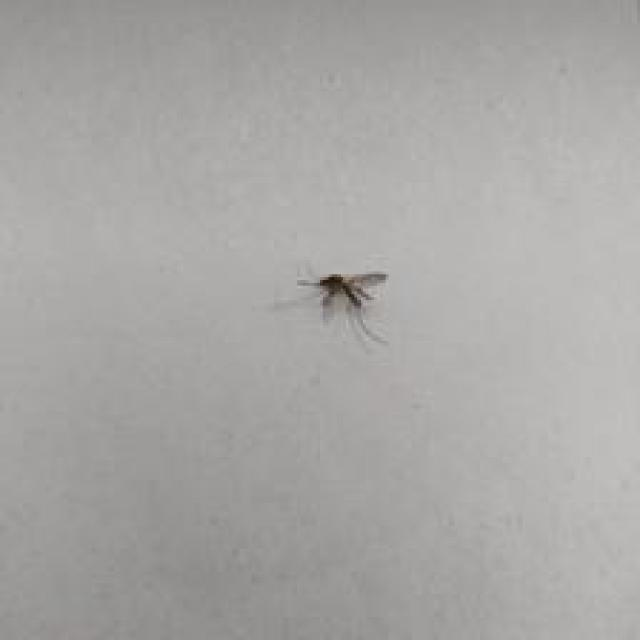Culex: (293, 270, 390, 347)
